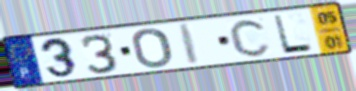3: (39, 36, 82, 81), (80, 33, 121, 76)
C: (228, 17, 274, 58)
I: (176, 22, 201, 66)
L: (271, 13, 316, 55)
O: (130, 27, 175, 70)
